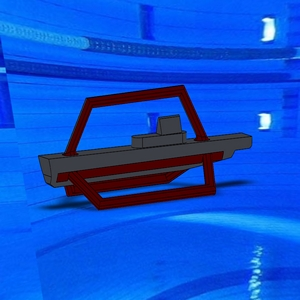submarine: (32, 81, 256, 220)
